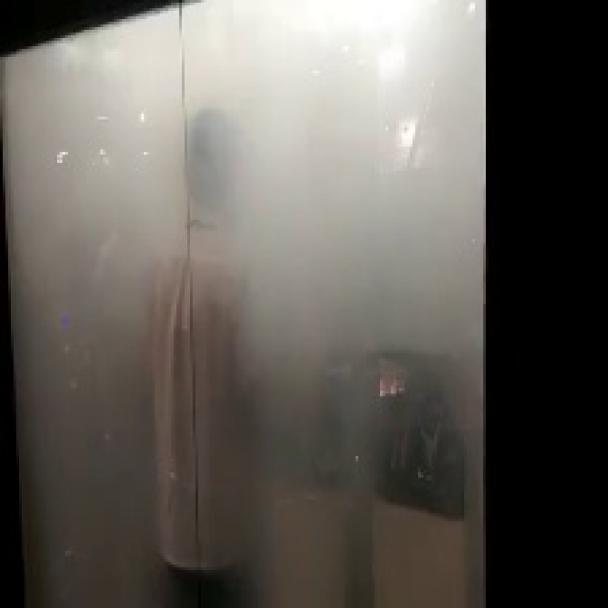smoke: (0, 0, 487, 606)
